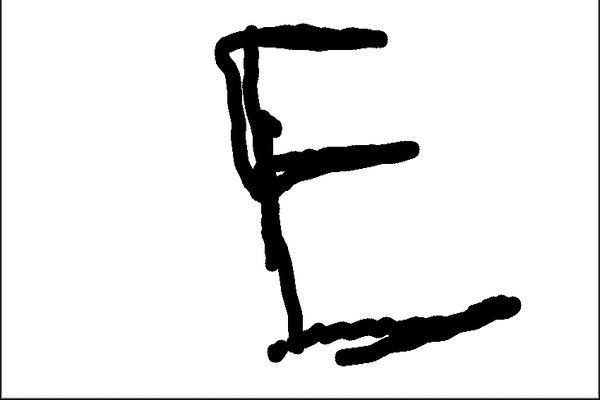E: (210, 19, 524, 373)
